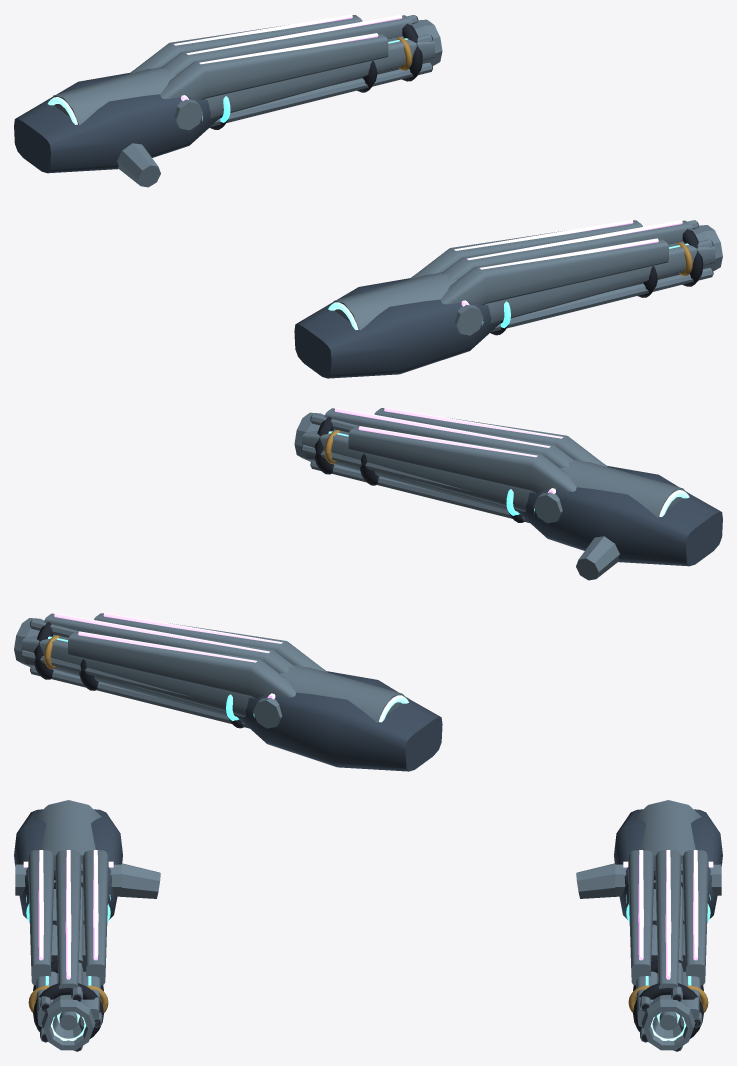
The model's file is mount.glb.
The picture shows the model from 3 angles, top to bottom: view 1: azimuth 30°, elevation 25°; view 2: azimuth 150°, elevation 25°; view 3: azimuth 270°, elevation 25°; orthographic projection. The views are drawn at different scales.
Parts seen in each view (by area): view 1: m_array Brushed fitting edges, m_heavy Fitting gunmetal, m_rotary Brushed fitting edges, m_siege Brushed fitting edges, m_array m_array emitter, m_heavy Brushed fitting edges, m_rotary Machined graphite; view 2: m_array Brushed fitting edges, m_heavy Fitting gunmetal, m_rotary Brushed fitting edges, m_siege Brushed fitting edges, m_array m_array emitter, m_heavy Brushed fitting edges, m_rotary Machined graphite; view 3: m_array Brushed fitting edges, m_rotary Brushed fitting edges, m_heavy Brushed fitting edges, m_heavy Fitting gunmetal, m_array m_array emitter, m_siege Brushed fitting edges, m_rotary Machined graphite, m_siege Champagne gold edging, m_siege m_siege emitter, m_heavy m_heavy emitter.
Boxes of the visible parts, x1,y1,x2,y2 form: m_array Brushed fitting edges: (129, 15, 692, 335); m_heavy Fitting gunmetal: (14, 73, 500, 378); m_rotary Brushed fitting edges: (48, 15, 712, 332); m_siege Brushed fitting edges: (205, 38, 715, 323); m_array m_array emitter: (173, 14, 682, 306); m_heavy Brushed fitting edges: (117, 19, 722, 291); m_rotary Machined graphite: (357, 16, 713, 297); m_array Brushed fitting edges: (44, 408, 607, 728); m_heavy Fitting gunmetal: (236, 466, 722, 771); m_rotary Brushed fitting edges: (21, 413, 688, 728); m_siege Brushed fitting edges: (21, 430, 531, 716); m_array m_array emitter: (54, 407, 563, 699); m_heavy Brushed fitting edges: (14, 412, 619, 719); m_rotary Machined graphite: (21, 415, 379, 690); m_array Brushed fitting edges: (15, 850, 721, 995); m_rotary Brushed fitting edges: (34, 800, 702, 1051); m_heavy Brushed fitting edges: (41, 863, 695, 1050); m_heavy Fitting gunmetal: (14, 809, 722, 919); m_array m_array emitter: (23, 850, 713, 979); m_siege Brushed fitting edges: (36, 880, 700, 1026); m_rotary Machined graphite: (33, 960, 703, 1050); m_siege Champagne gold edging: (28, 985, 708, 1012); m_siege m_siege emitter: (26, 894, 710, 989); m_heavy m_heavy emitter: (50, 1012, 686, 1040).
Size of the model in its own units: 18.04 by 3.72 by 26.
